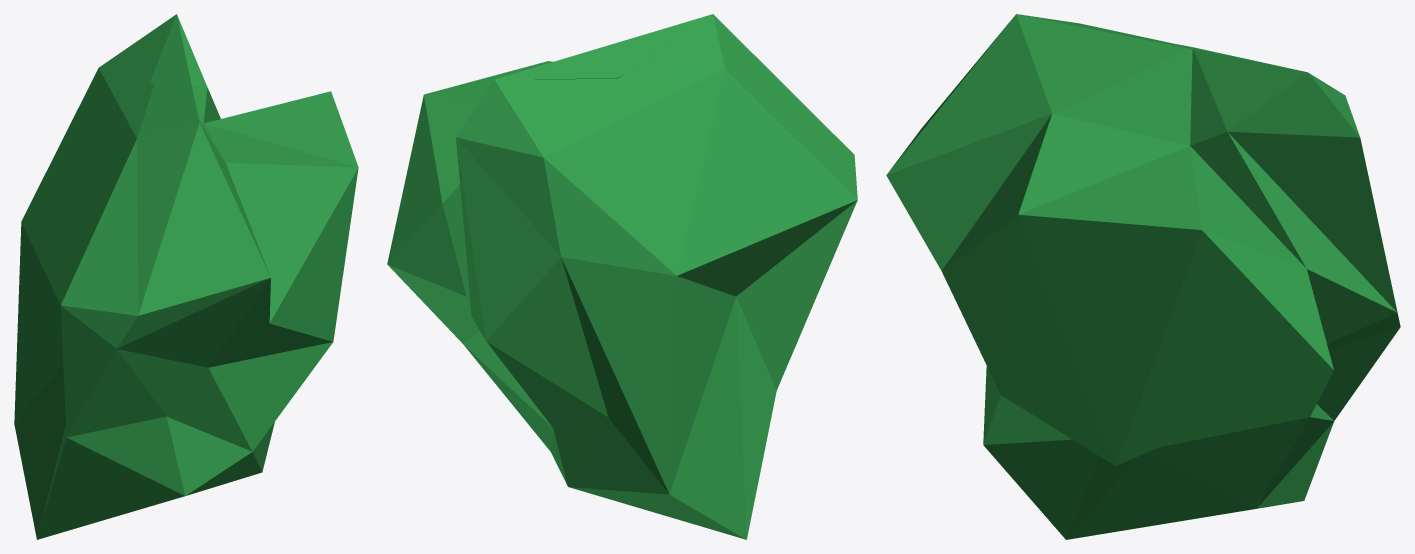
File: smallbush1.glb
3 renders of one model, left to right at view 1: azimuth 30°, elevation 25°; view 2: azimuth 150°, elevation 25°; view 3: azimuth 270°, elevation 25°, orthographic. The views are drawn at different scales.
Parts seen in each view (by area): view 1: Bush.010; view 2: Bush.010; view 3: Bush.010.
Part boxes in pixels (box(x1,y1,x2,y2)): Bush.010: box(14, 14, 358, 539); Bush.010: box(387, 14, 857, 539); Bush.010: box(886, 14, 1400, 539).
Size of the model in its own units: 0.5145 by 0.6256 by 0.5347.
